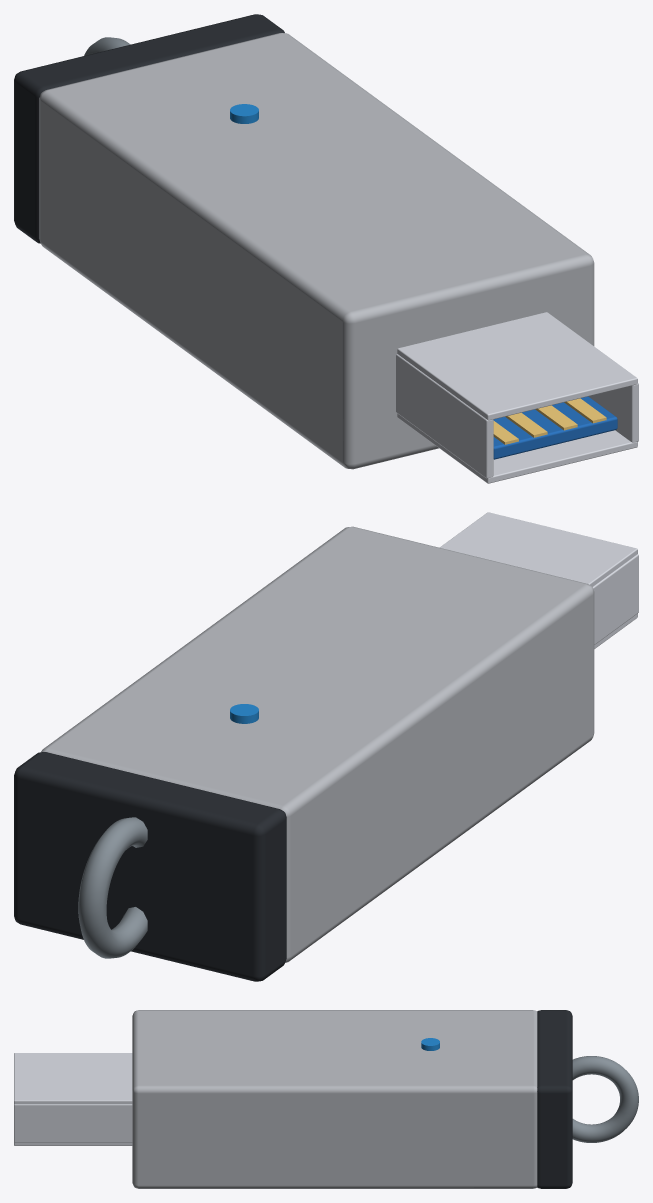
The model's file is usb-flash-drive.glb.
3 views of the same model, one above another, from view 1: azimuth 30°, elevation 25°; view 2: azimuth 150°, elevation 25°; view 3: azimuth 270°, elevation 25° (orthographic). The views are drawn at different scales.
Parts seen in each view (by area): view 1: Anodised USB drive body, USB shell plate (×2), End cap, USB shell side (×2), USB dielectric tongue; view 2: Anodised USB drive body, End cap, USB shell plate, Keyring eye, USB shell side; view 3: Anodised USB drive body, USB shell plate (×2), End cap, USB shell side, Keyring eye.
Boxes of the visible parts, box(x1,y1,x2,y2) form: Anodised USB drive body: box(39, 33, 594, 469); USB shell plate (×2): box(397, 312, 637, 483); End cap: box(14, 14, 284, 243); USB shell side (×2): box(396, 354, 638, 478); USB dielectric tongue: box(493, 396, 617, 459); Anodised USB drive body: box(41, 526, 594, 962); End cap: box(14, 752, 286, 981); USB shell plate: box(440, 512, 637, 586); Keyring eye: box(78, 817, 147, 958); USB shell side: box(593, 554, 638, 644); Anodised USB drive body: box(132, 1010, 537, 1188); USB shell plate (×2): box(14, 1053, 132, 1145); End cap: box(537, 1010, 572, 1188); USB shell side: box(14, 1104, 132, 1142); Keyring eye: box(572, 1056, 638, 1142).
Bounding box in the file's own units: 0.02 × 0.0127 × 0.066.
3 materials, 3 textured.
